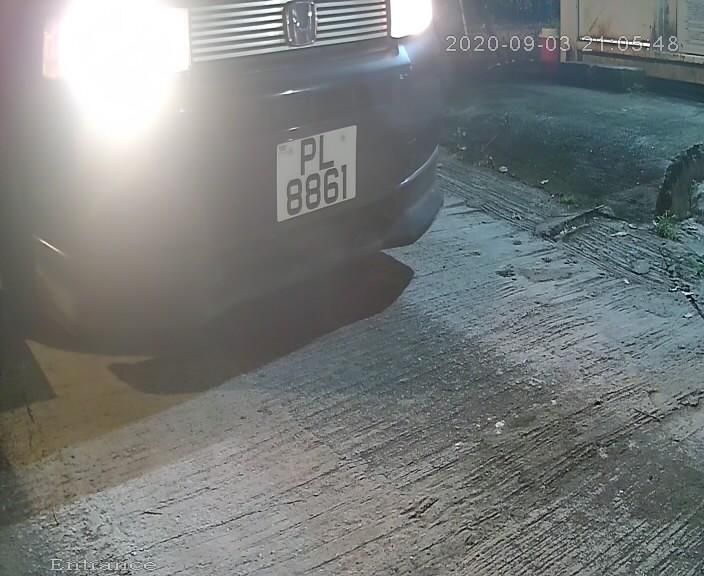License Plate: (265, 111, 362, 229)
